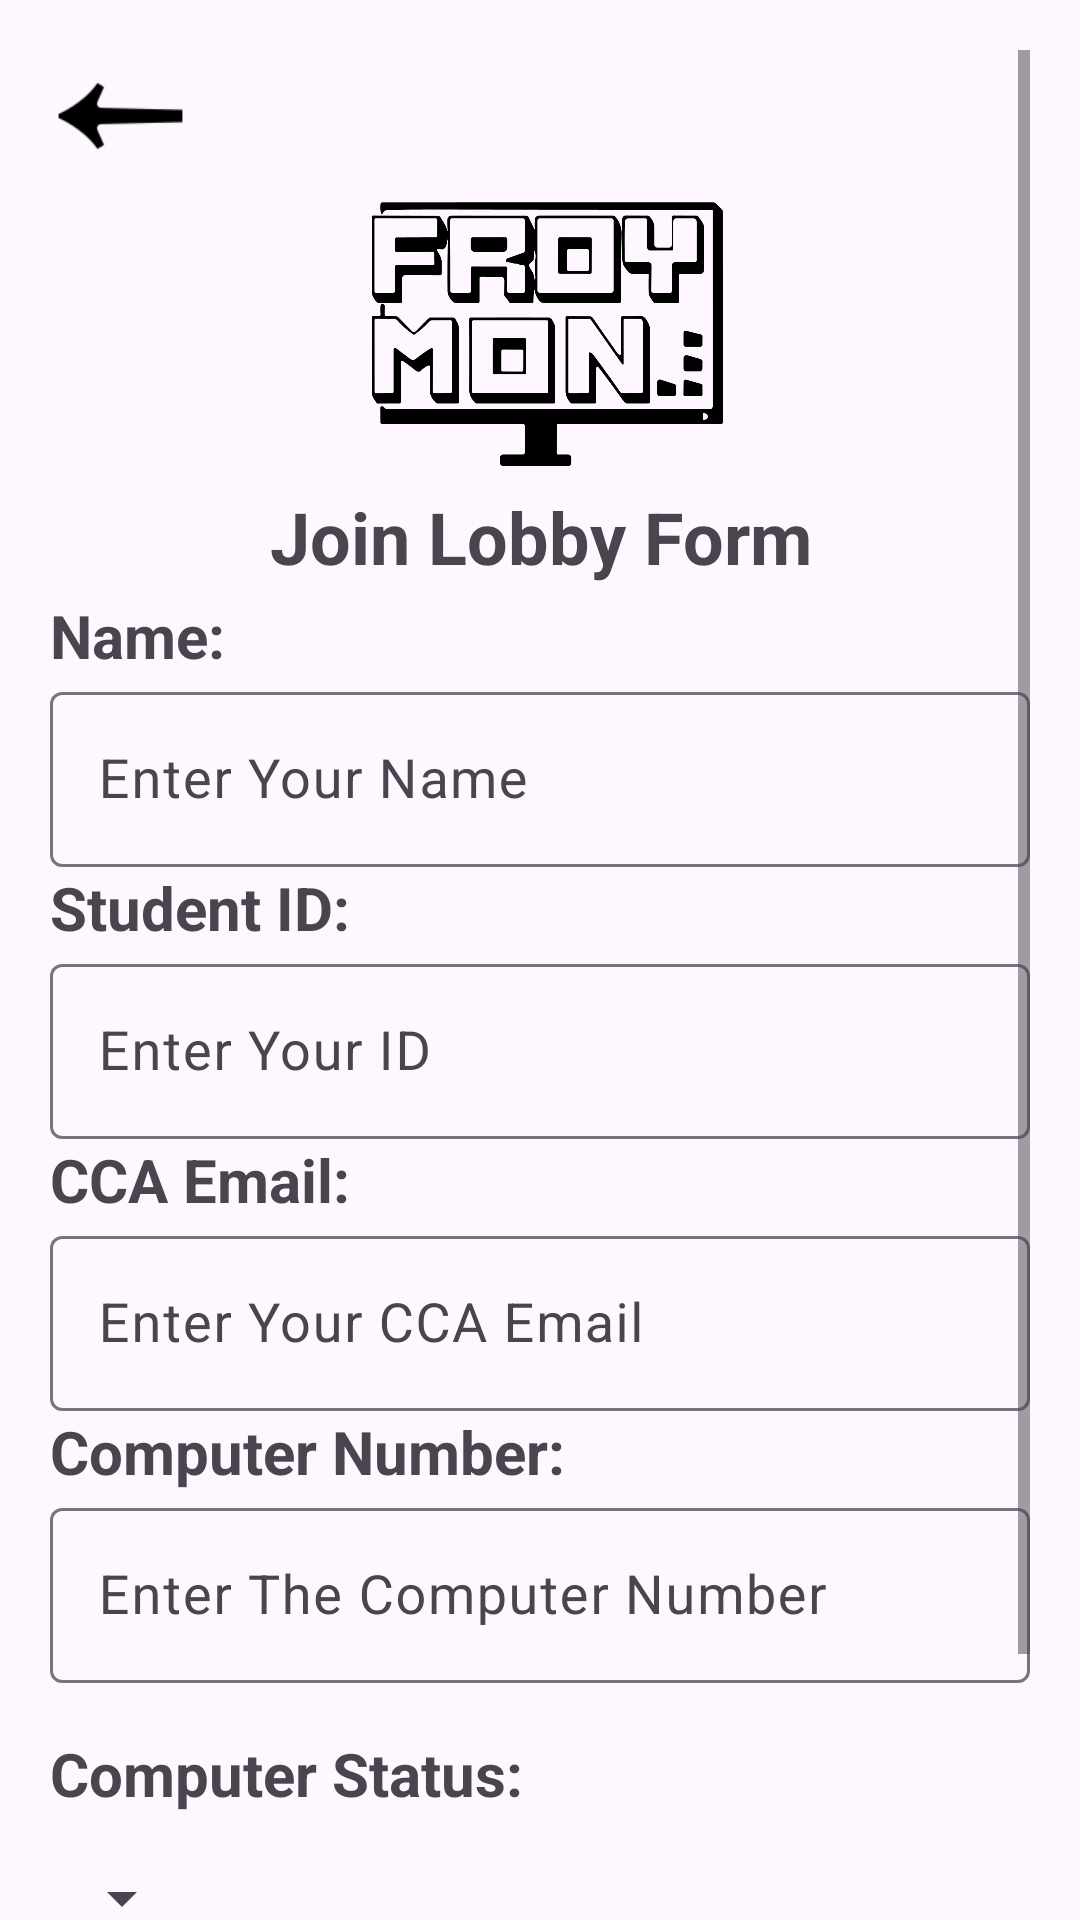

Icon bounding boxes for this 1080px×1920px phone screenshot, format (x1, y1, x2, y2):
back: (58, 83, 183, 149)
